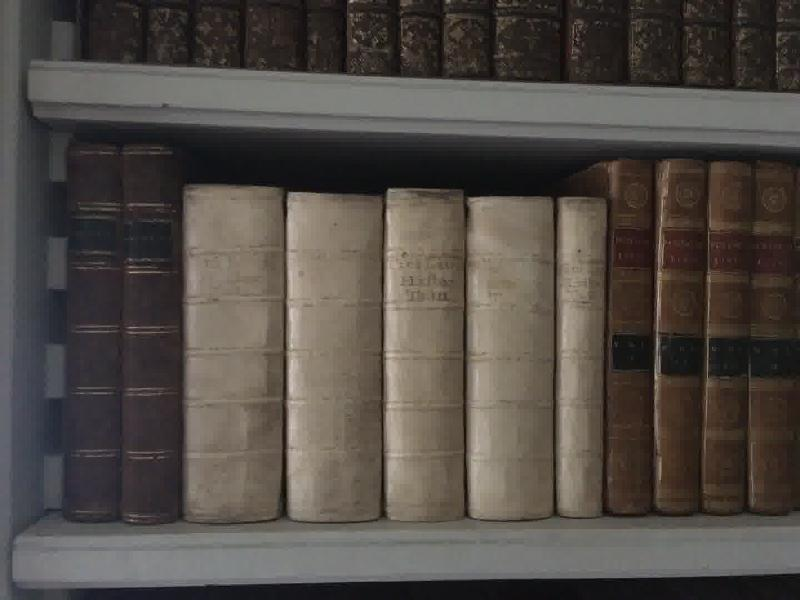Kk4-1_2: (65, 132, 177, 532)
Kk4-3_7: (182, 174, 605, 523)
Kk4-8_13: (593, 146, 800, 516)
